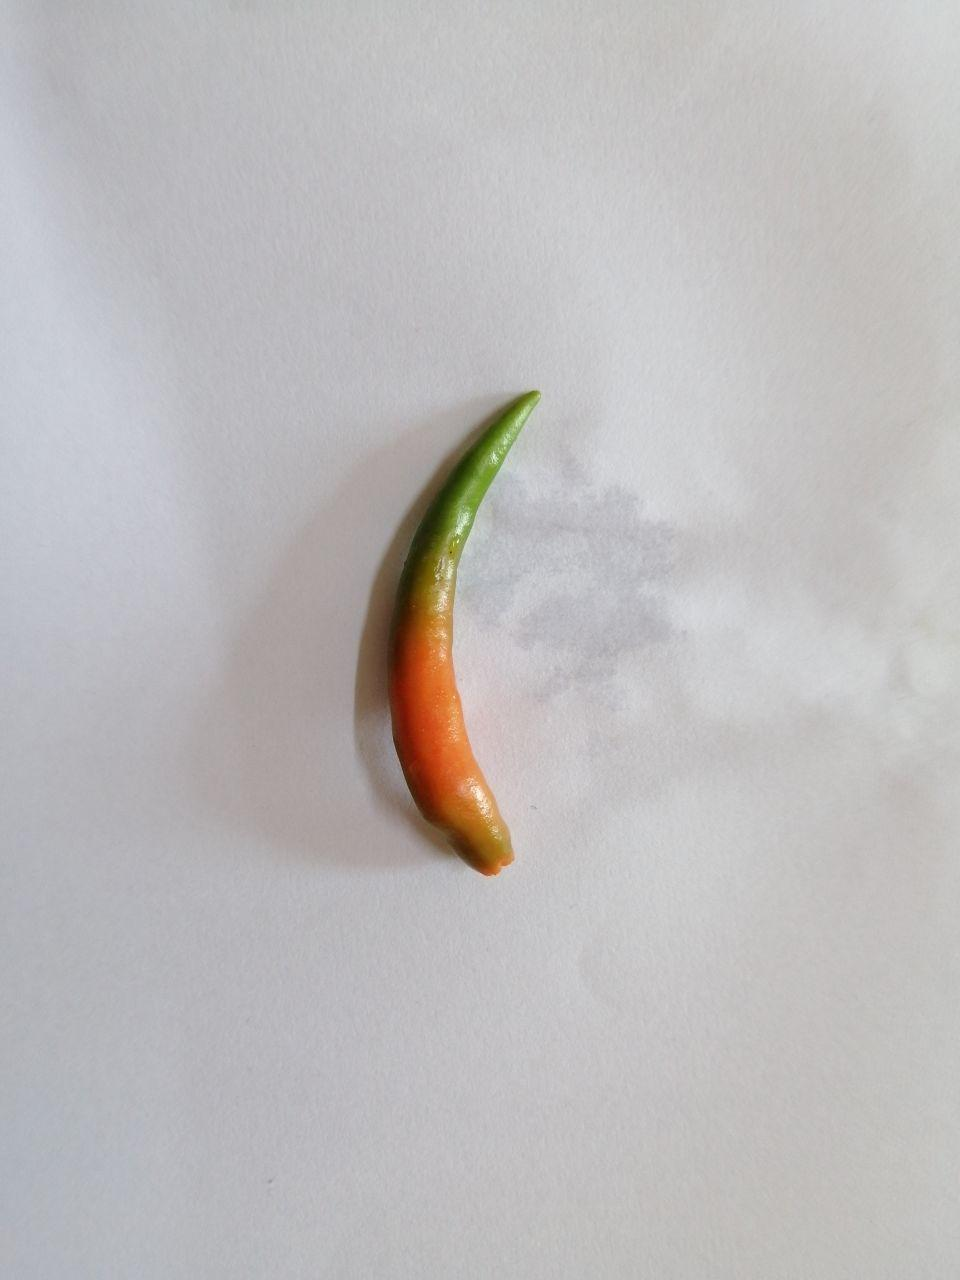lada kuning: (377, 378, 551, 888)
